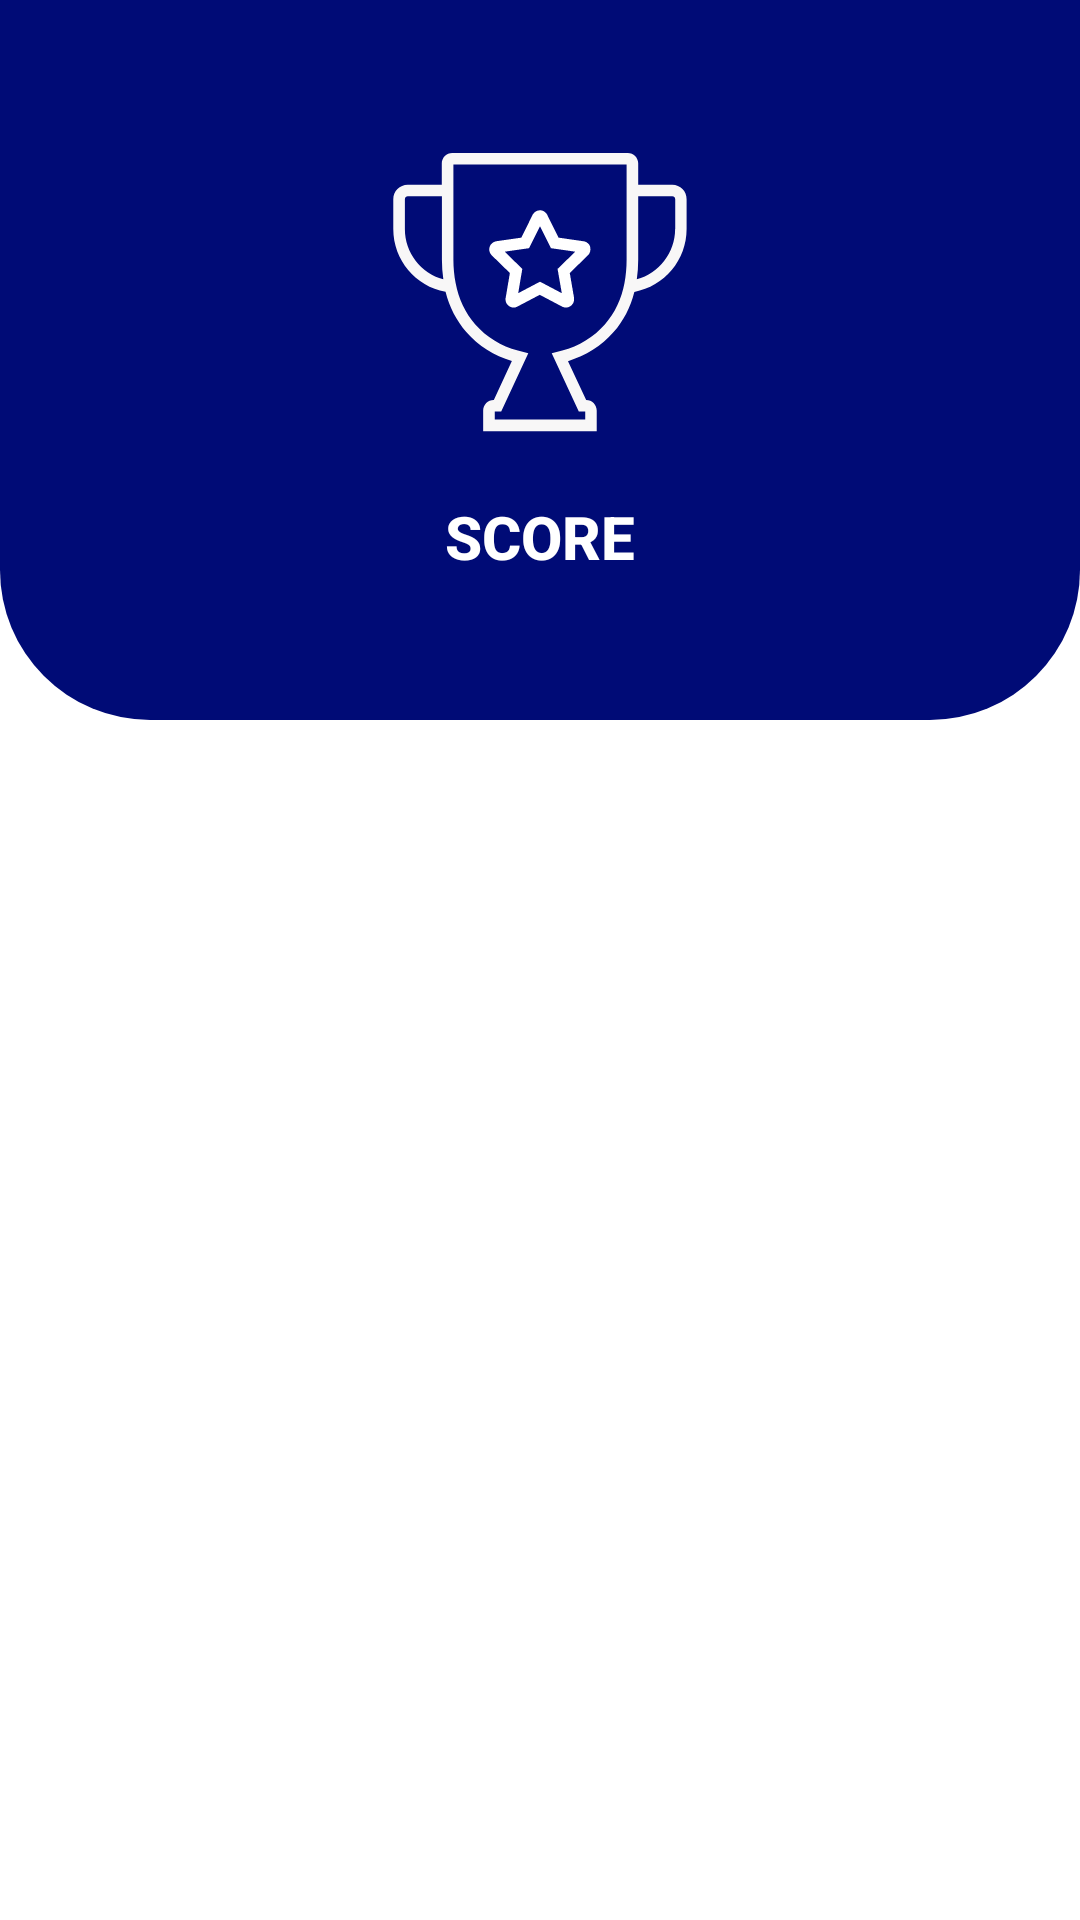

Locate icon controls on the screen. Image size 1080w x 1920h, boxes as (x1, y1, x2, y2).
trophy: (393, 153, 687, 432)
